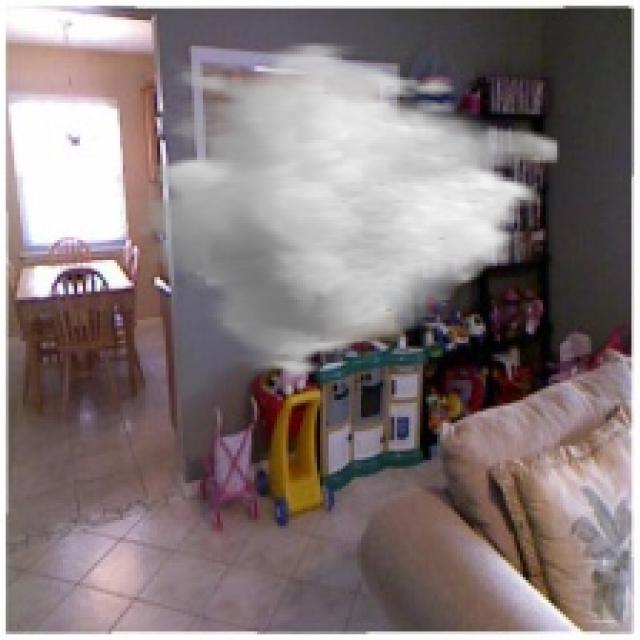smoke: (137, 43, 560, 386)
